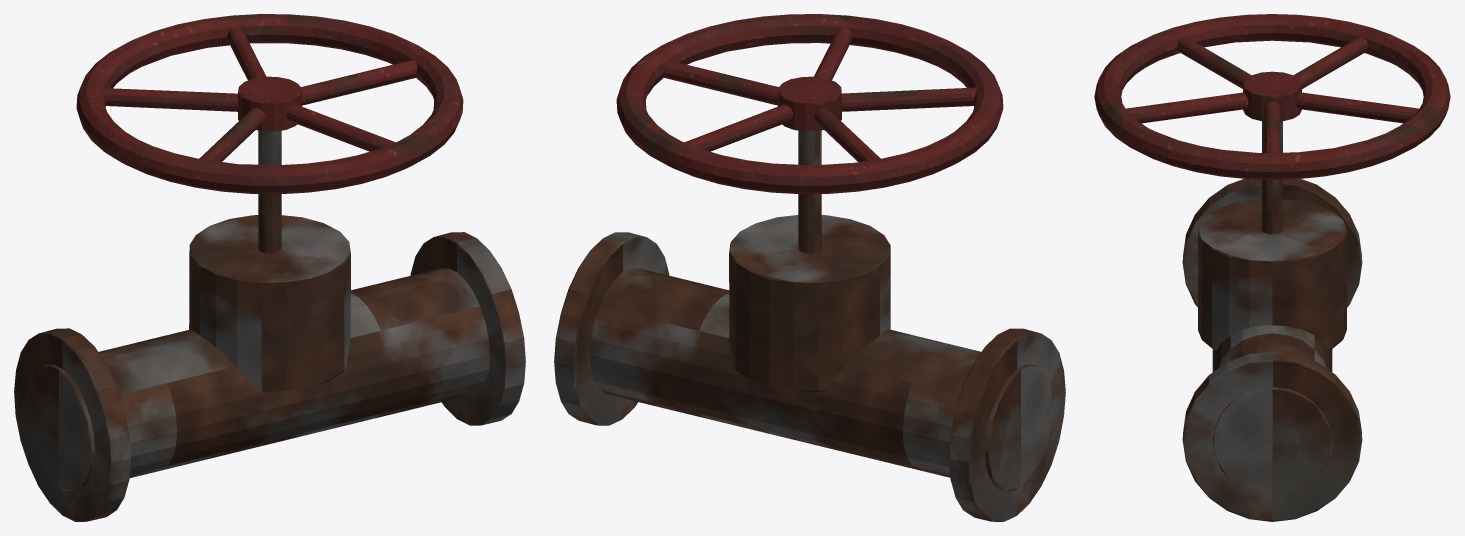
File: F32_valve_wheel.glb
3 renders of one model, left to right at view 1: azimuth 30°, elevation 25°; view 2: azimuth 150°, elevation 25°; view 3: azimuth 270°, elevation 25°, orthographic. The views are drawn at different scales.
Visible parts, largest first — view 1: F32_valve_wheel; view 2: F32_valve_wheel; view 3: F32_valve_wheel.
Boxes of the visible parts, bbox=[...] form: F32_valve_wheel: bbox=[14, 14, 525, 521]; F32_valve_wheel: bbox=[554, 14, 1065, 521]; F32_valve_wheel: bbox=[1094, 14, 1450, 521].
Size of the model in its own units: 0.5 by 0.4246 by 0.3967.
2 materials, 2 textured.
